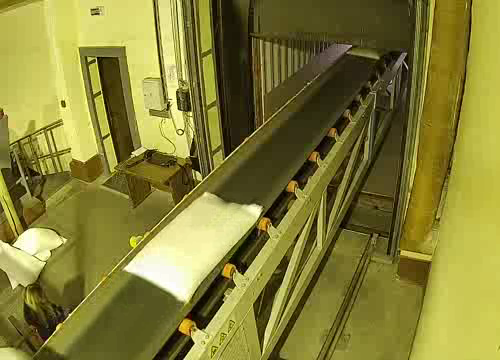bag: (115, 187, 268, 306), (345, 42, 389, 65), (0, 343, 39, 360)
